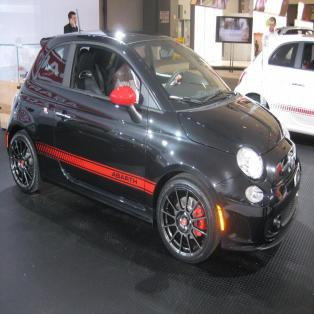Auto: (6, 8, 303, 266)
